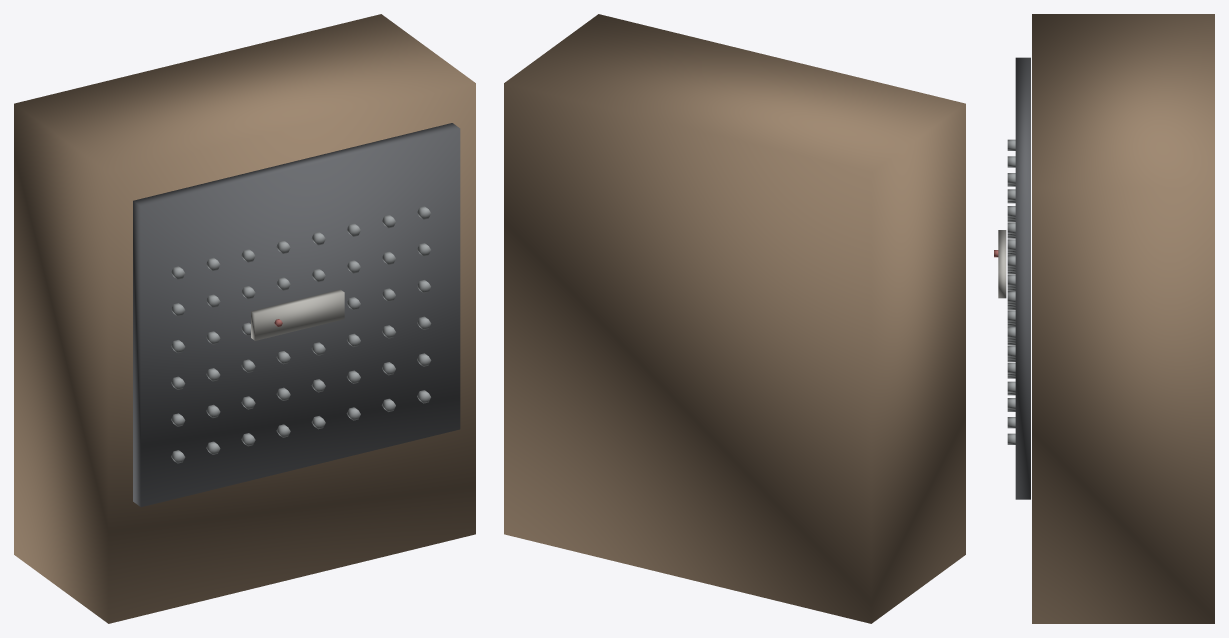
Rendered from telephone_switchboard__deep.glb.
3 views of the same model, side by side, from view 1: azimuth 30°, elevation 25°; view 2: azimuth 150°, elevation 25°; view 3: azimuth 270°, elevation 25° (orthographic). The views are drawn at different scales.
Parts seen in each view (by area): view 1: world; view 2: world; view 3: world.
Part boxes in pixels (left/top/right/bottom): world: left=14, top=14, right=475, bottom=623; world: left=504, top=14, right=965, bottom=623; world: left=994, top=14, right=1214, bottom=623.
Size of the model in its own units: 1.15 by 1.35 by 0.6185.
